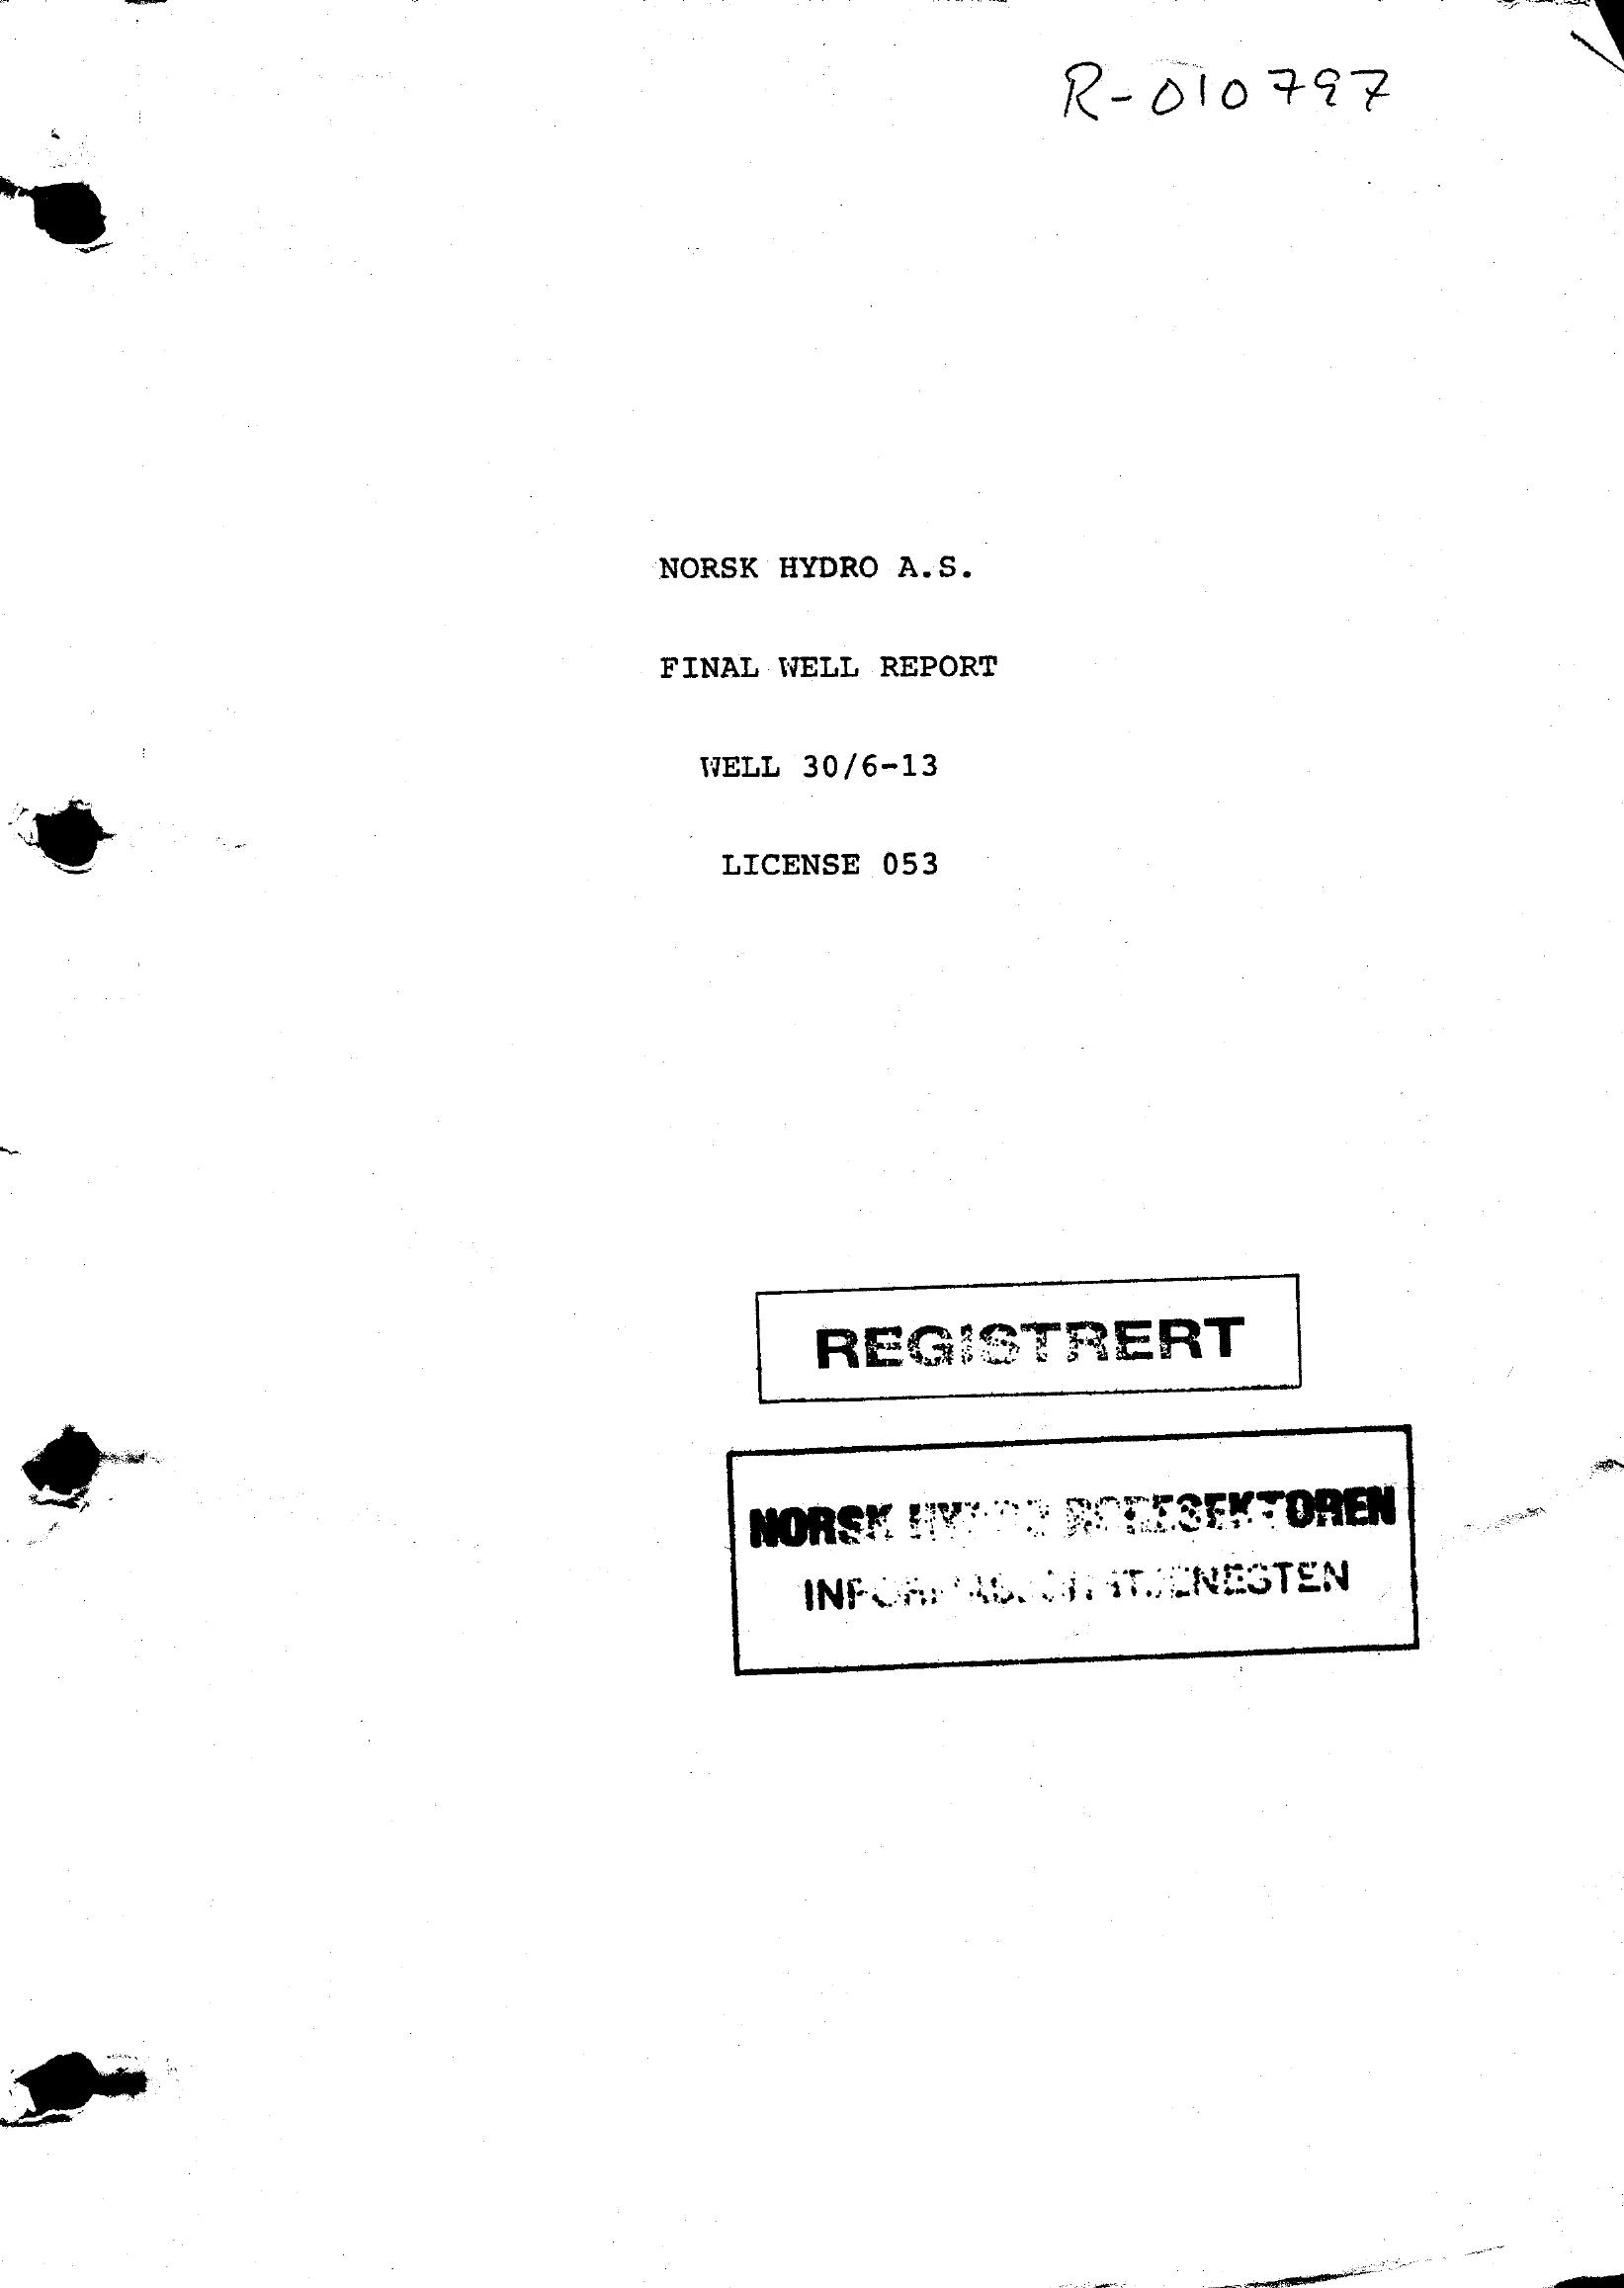text: (608, 517, 1049, 938)
undefined: (642, 1218, 1512, 1777)
